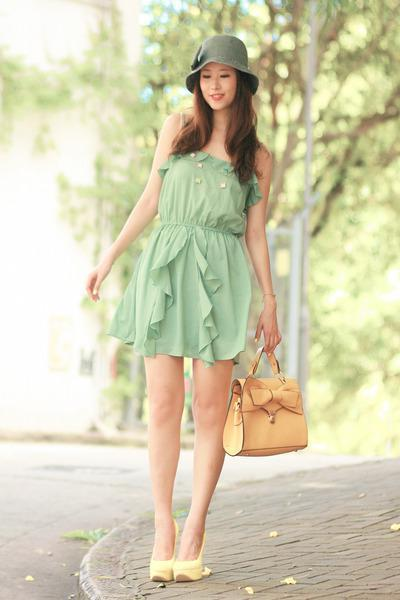dress: (103, 142, 263, 368)
